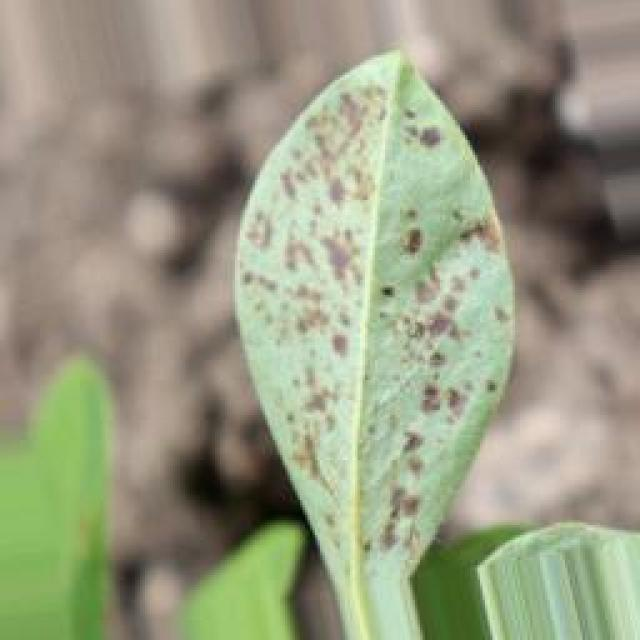Whitefly: (215, 42, 509, 561)
